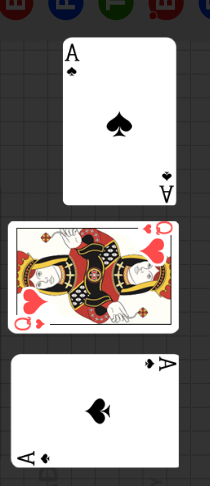AS: (65, 42, 82, 79), (142, 357, 177, 374), (157, 168, 174, 203)
